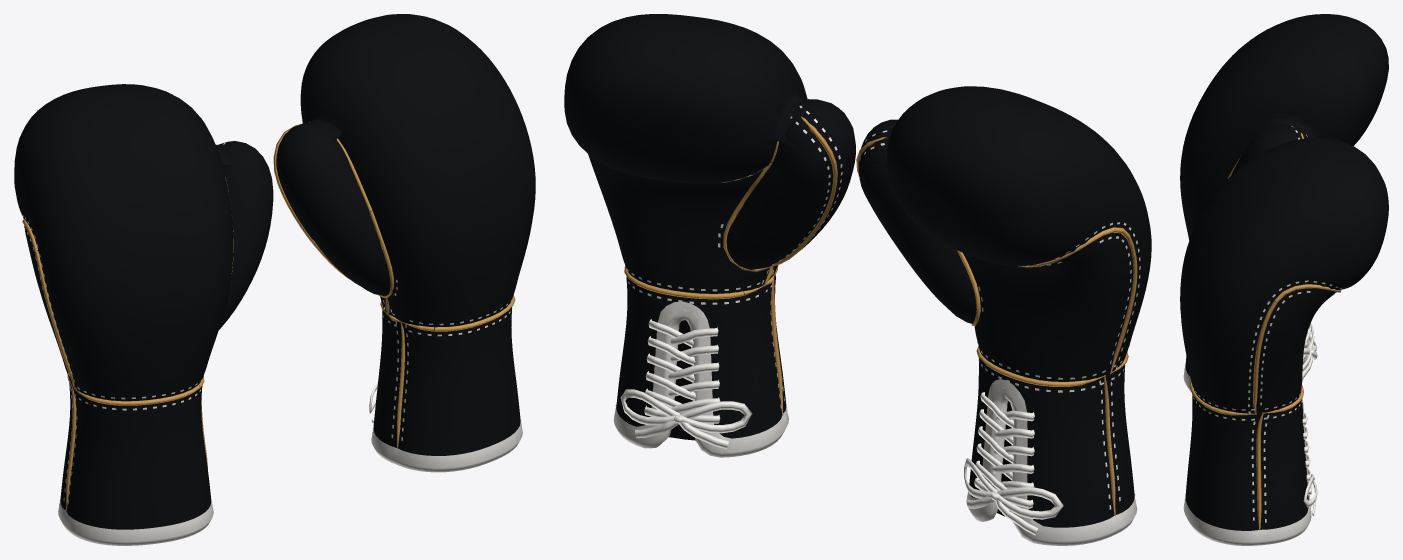
File: gloves.glb
The picture shows the model from 3 angles, left to right: view 1: azimuth 30°, elevation 25°; view 2: azimuth 150°, elevation 25°; view 3: azimuth 270°, elevation 25°; orthographic projection. The views are drawn at different scales.
Visible parts, largest first — view 1: GLOVES_LEATHER, GLOVES_IVORY, GLOVES_PIPING; view 2: GLOVES_LEATHER, GLOVES_IVORY, GLOVES_PIPING, GLOVES_LINING; view 3: GLOVES_LEATHER, GLOVES_IVORY, GLOVES_PIPING.
Part boxes in pixels (x1,y1,x2,y2): GLOVES_LEATHER: [14, 14, 535, 529]; GLOVES_IVORY: [21, 122, 522, 545]; GLOVES_PIPING: [22, 124, 515, 511]; GLOVES_LEATHER: [564, 14, 1151, 527]; GLOVES_IVORY: [613, 105, 1140, 545]; GLOVES_PIPING: [624, 116, 1137, 516]; GLOVES_LINING: [669, 320, 1012, 516]; GLOVES_LEATHER: [1180, 14, 1388, 530]; GLOVES_IVORY: [1183, 126, 1344, 545]; GLOVES_PIPING: [1189, 133, 1341, 530].
Size of the model in its own units: 0.3835 by 0.2953 by 0.1565.
